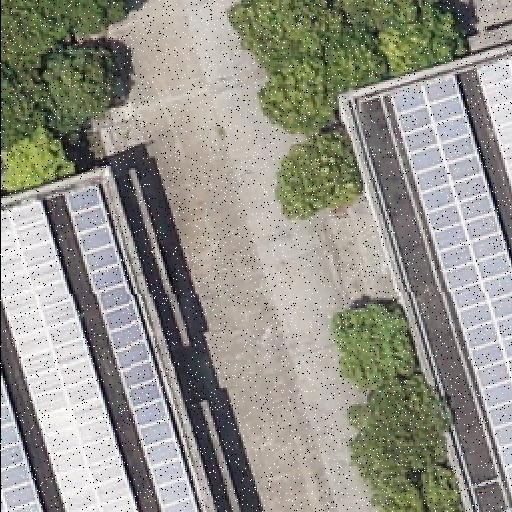solar-panel: (384, 76, 512, 504), (63, 185, 201, 511), (0, 200, 136, 512), (472, 54, 512, 194), (0, 376, 40, 512)
